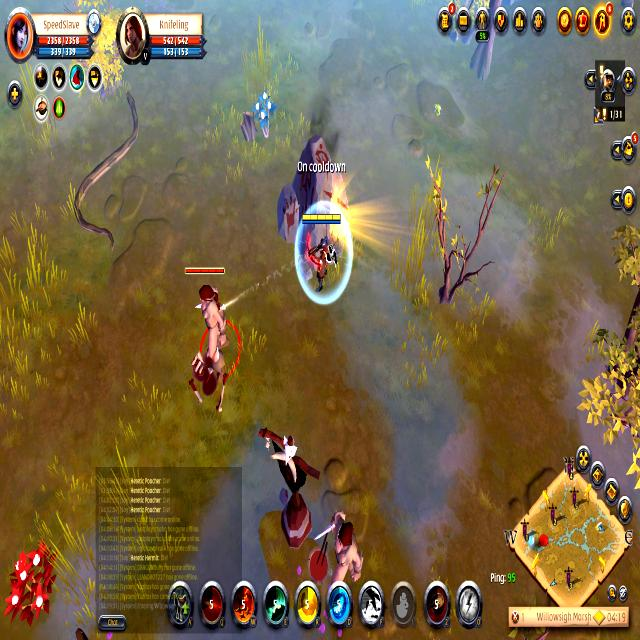hide: (5, 539, 57, 628), (252, 89, 276, 139)
ore: (69, 93, 140, 257), (182, 259, 251, 385), (317, 500, 364, 606)
red: (299, 209, 348, 300)
